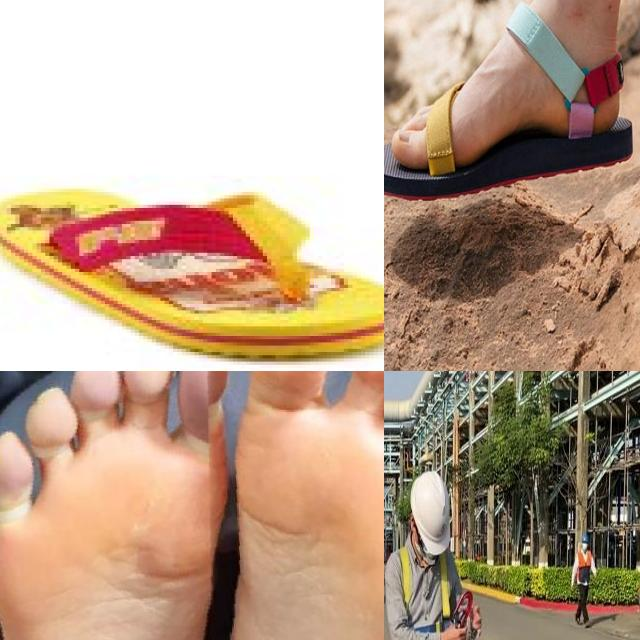Barefoots: (0, 371, 237, 640), (208, 371, 384, 640)
Harness: (400, 546, 474, 632)
Sandals: (0, 174, 384, 371), (384, 16, 634, 199)
